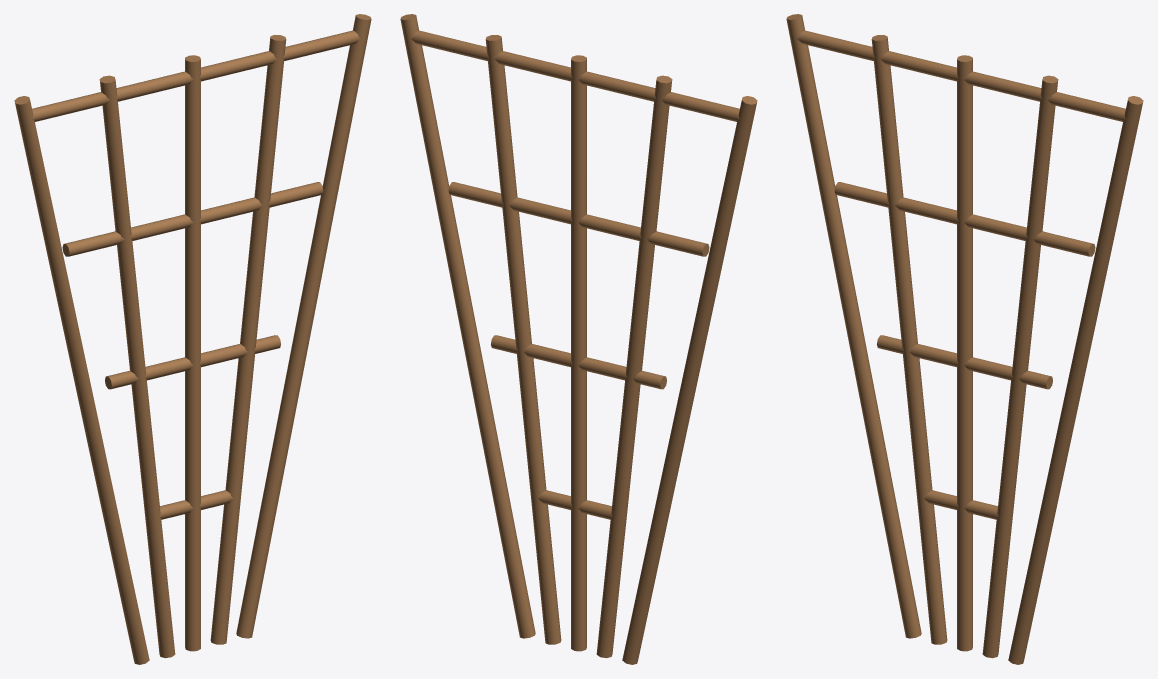
File: almanac-gardens-fan-trellis-4e22fe45__22033.glb
3 renders of one model, left to right at view 1: azimuth 30°, elevation 25°; view 2: azimuth 150°, elevation 25°; view 3: azimuth 330°, elevation 25°, orthographic.
Parts seen in each view (by area): view 1: fan-trellis-oak; view 2: fan-trellis-oak; view 3: fan-trellis-oak.
Part boxes in pixels (x1,y1,x2,y2): fan-trellis-oak: (14, 14, 371, 664); fan-trellis-oak: (400, 14, 757, 664); fan-trellis-oak: (786, 14, 1143, 664).
Size of the model in its own units: 1.04 by 1.66 by 0.0419.
